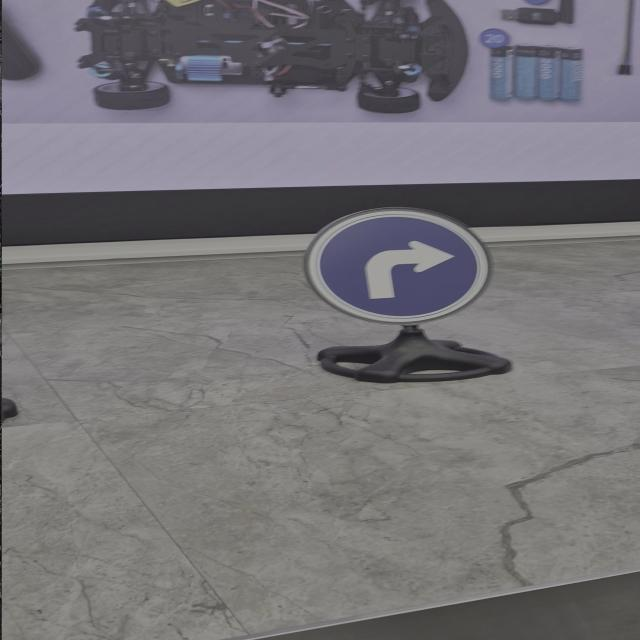right_dierection: (298, 205, 496, 325)
